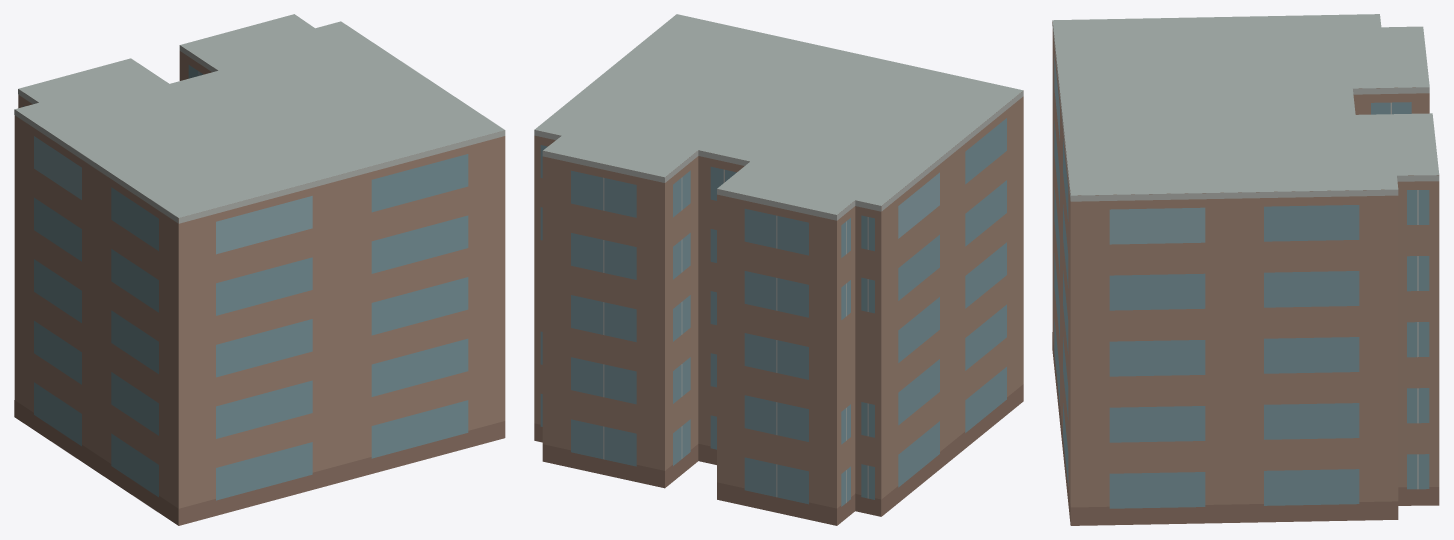
File: survey-upis-33029268.glb
3 renders of one model, left to right at view 1: azimuth 30°, elevation 25°; view 2: azimuth 150°, elevation 25°; view 3: azimuth 270°, elevation 25°, orthographic. The views are drawn at different scales.
Parts seen in each view (by area): view 1: survey-upis-33029268.tmp; view 2: survey-upis-33029268.tmp; view 3: survey-upis-33029268.tmp.
Boxes of the visible parts, left/top/right/bottom form: survey-upis-33029268.tmp: left=14, top=14, right=505, bottom=525; survey-upis-33029268.tmp: left=534, top=14, right=1023, bottom=525; survey-upis-33029268.tmp: left=1052, top=14, right=1439, bottom=525.
Bounding box in the file's own units: 15.57 × 13.2 × 14.02.
